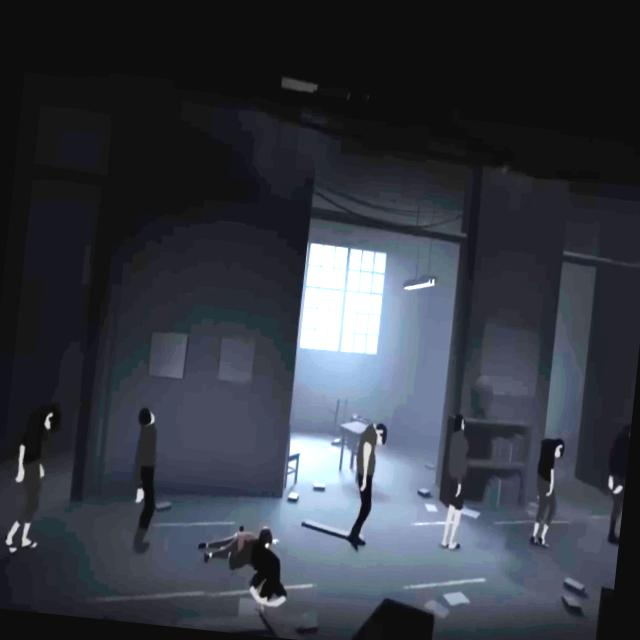boy: (196, 520, 280, 568)
zombie: (4, 400, 59, 556), (124, 405, 165, 553), (347, 421, 388, 554), (224, 536, 293, 608), (438, 413, 474, 550), (530, 436, 566, 548), (602, 420, 630, 546)
